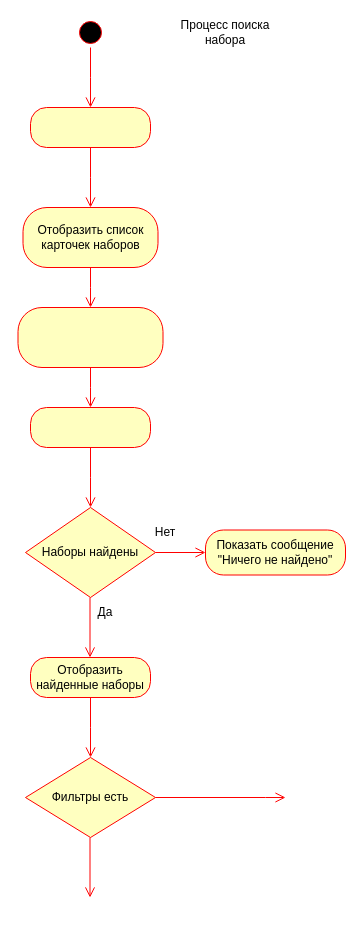
Image size: 363x925. Some labels were removed from this diagram. Here are the shapes that lost their labels. From the top down, the box of each, then its label:
(30, 106, 150, 148): Открыть влкадку "Наборы"
(17, 306, 163, 368): Ввести поисковый запрос и нажать кнопку поиска
(30, 406, 150, 448): Найти наборы
